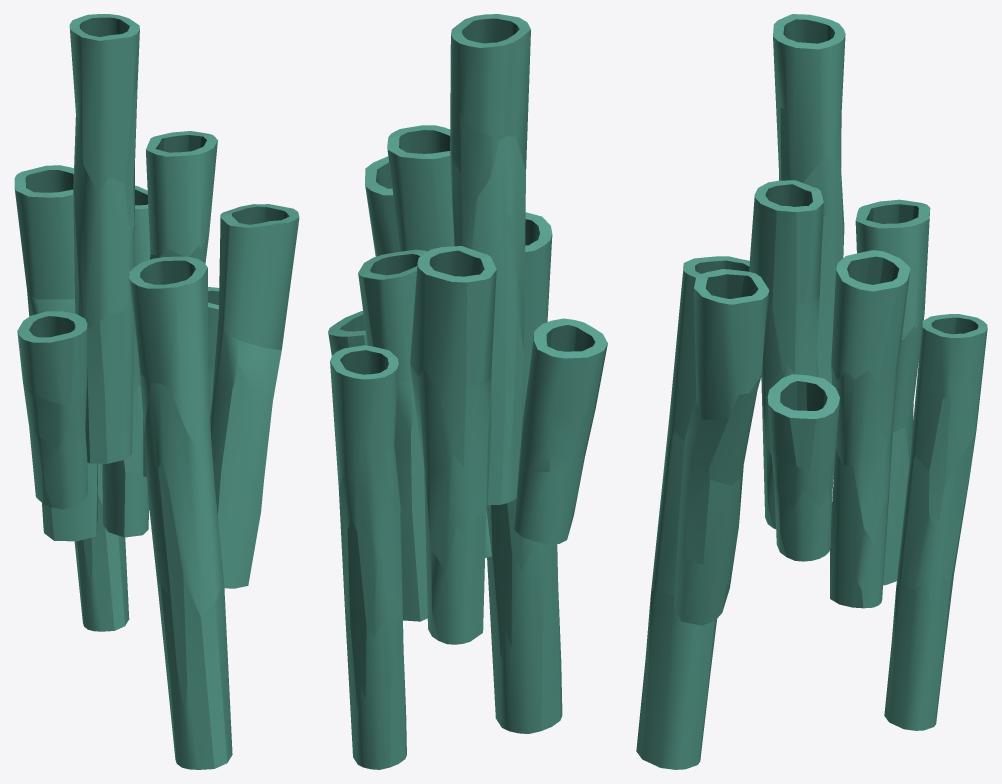
The model's file is coral_tube_set_B_solos.fbx.
The picture shows the model from 3 angles, left to right: view 1: azimuth 30°, elevation 25°; view 2: azimuth 150°, elevation 25°; view 3: azimuth 270°, elevation 25°; orthographic projection. The views are drawn at different scales.
Parts seen in each view (by area): view 1: coral_tube_B_solo_J, coral_tube_B_solo_A, coral_tube_B_solo_D, coral_tube_B_solo_G, coral_tube_B_solo_C, coral_tube_B_solo_B, coral_tube_B_solo_E, coral_tube_B_solo_H, coral_tube_B_solo_I; view 2: coral_tube_B_solo_C, coral_tube_B_solo_A, coral_tube_B_solo_H, coral_tube_B_solo_J, coral_tube_B_solo_G, coral_tube_B_solo_E, coral_tube_B_solo_B, coral_tube_B_solo_D, coral_tube_B_solo_I; view 3: coral_tube_B_solo_H, coral_tube_B_solo_D, coral_tube_B_solo_E, coral_tube_B_solo_J, coral_tube_B_solo_A, coral_tube_B_solo_B, coral_tube_B_solo_I, coral_tube_B_solo_C.
Boxes of the visible parts, x1,y1,x2,y2 form: coral_tube_B_solo_J: [129, 256, 232, 769]; coral_tube_B_solo_A: [69, 14, 139, 463]; coral_tube_B_solo_D: [210, 204, 299, 588]; coral_tube_B_solo_G: [17, 311, 87, 508]; coral_tube_B_solo_C: [14, 165, 97, 541]; coral_tube_B_solo_B: [143, 131, 217, 477]; coral_tube_B_solo_E: [102, 185, 150, 537]; coral_tube_B_solo_H: [74, 463, 129, 631]; coral_tube_B_solo_I: [208, 287, 219, 415]; coral_tube_B_solo_C: [410, 246, 496, 644]; coral_tube_B_solo_A: [450, 14, 530, 505]; coral_tube_B_solo_H: [330, 345, 406, 769]; coral_tube_B_solo_J: [486, 212, 562, 733]; coral_tube_B_solo_G: [514, 318, 607, 544]; coral_tube_B_solo_E: [358, 249, 427, 621]; coral_tube_B_solo_B: [387, 125, 454, 251]; coral_tube_B_solo_D: [365, 156, 491, 558]; coral_tube_B_solo_I: [328, 311, 367, 355]; coral_tube_B_solo_H: [884, 314, 987, 730]; coral_tube_B_solo_D: [674, 269, 769, 625]; coral_tube_B_solo_E: [830, 250, 910, 608]; coral_tube_B_solo_J: [636, 256, 749, 769]; coral_tube_B_solo_A: [773, 14, 845, 476]; coral_tube_B_solo_B: [749, 180, 823, 529]; coral_tube_B_solo_I: [767, 374, 839, 561]; coral_tube_B_solo_C: [855, 199, 930, 585].
Size of the model in its own units: 51.9 by 141 by 62.72.
